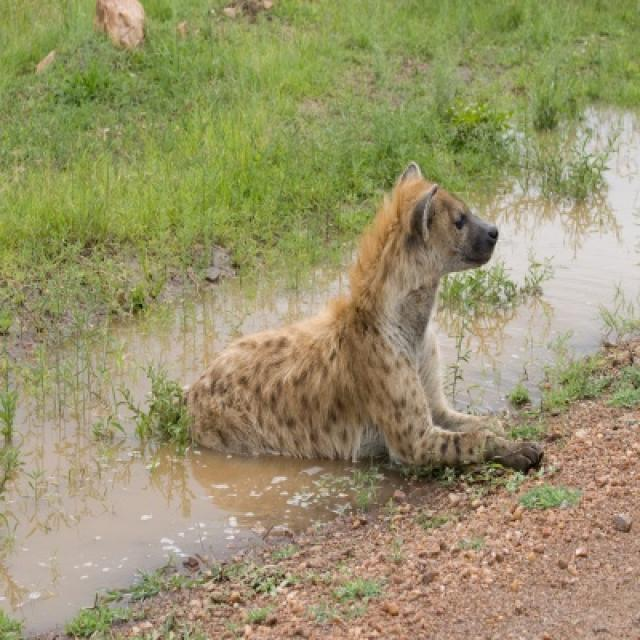hyena: (187, 162, 542, 470)
